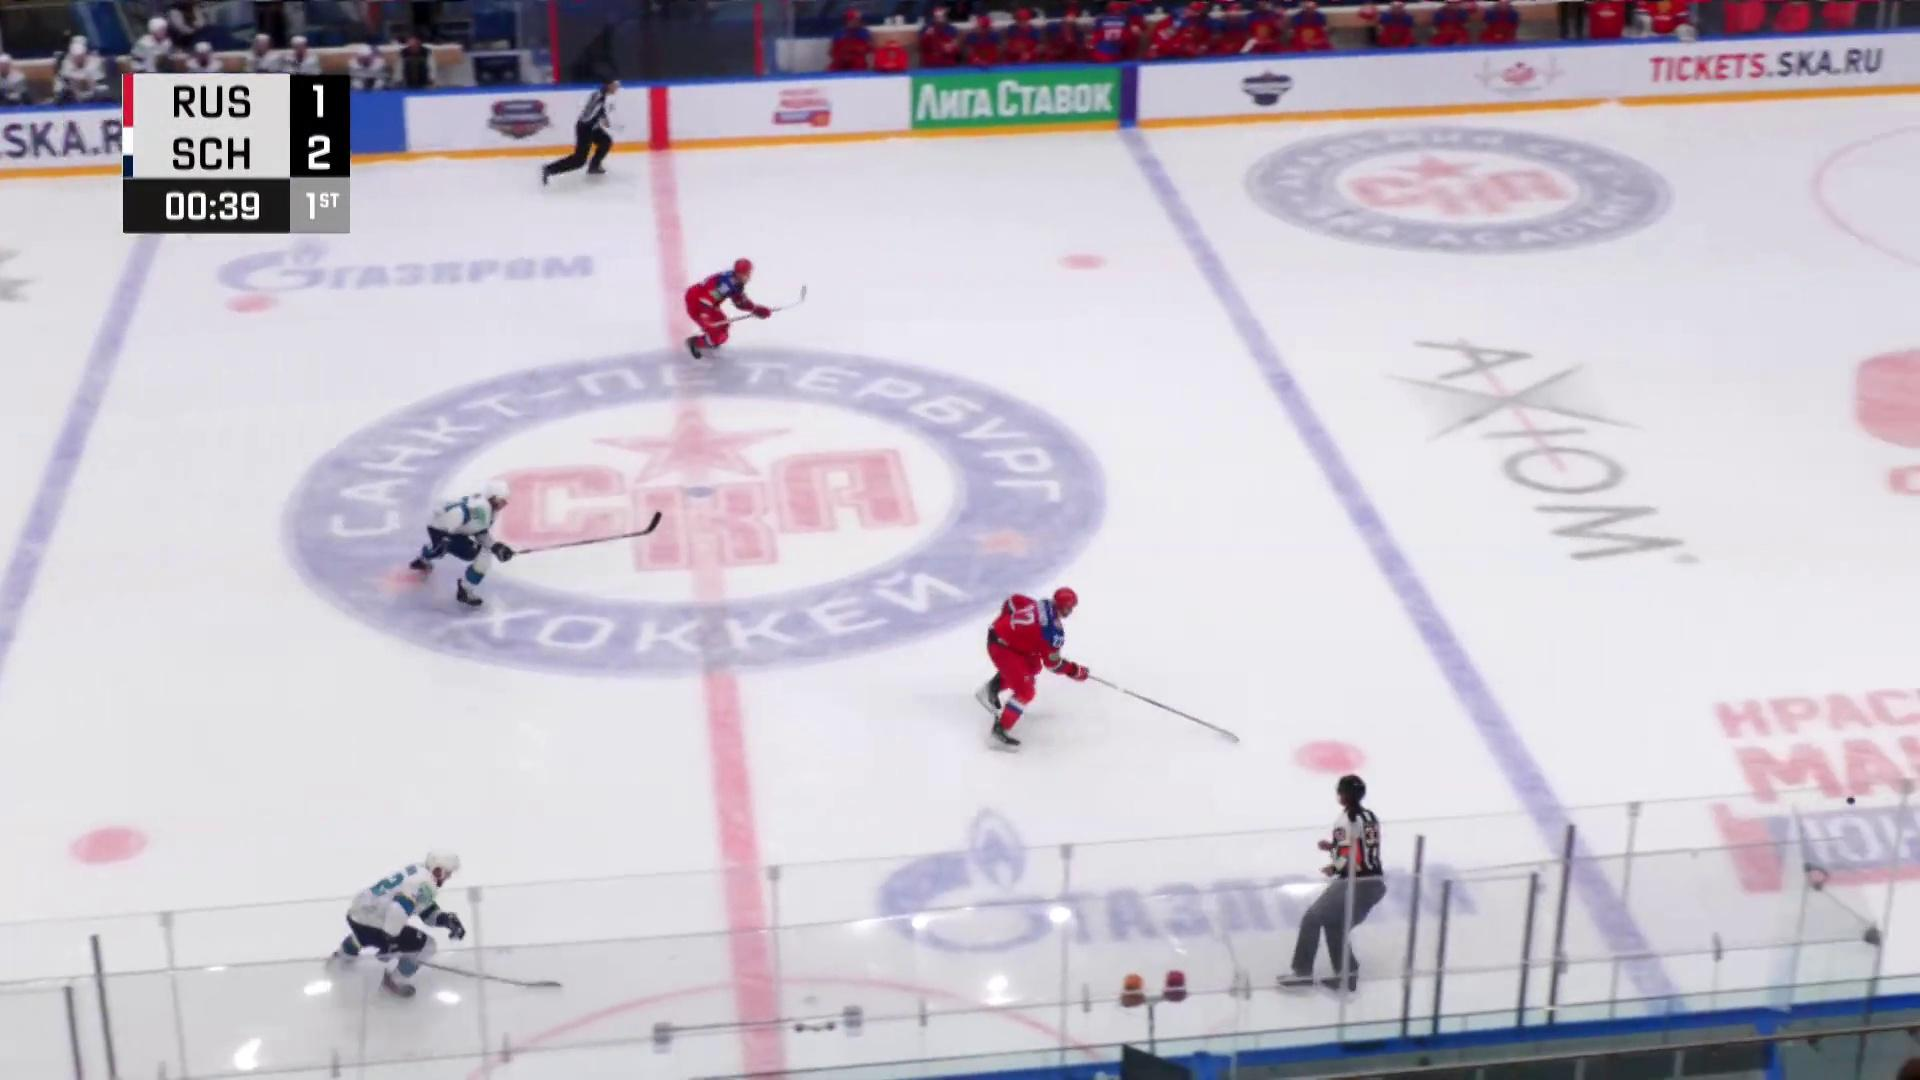ball: (1846, 796, 1857, 807)
